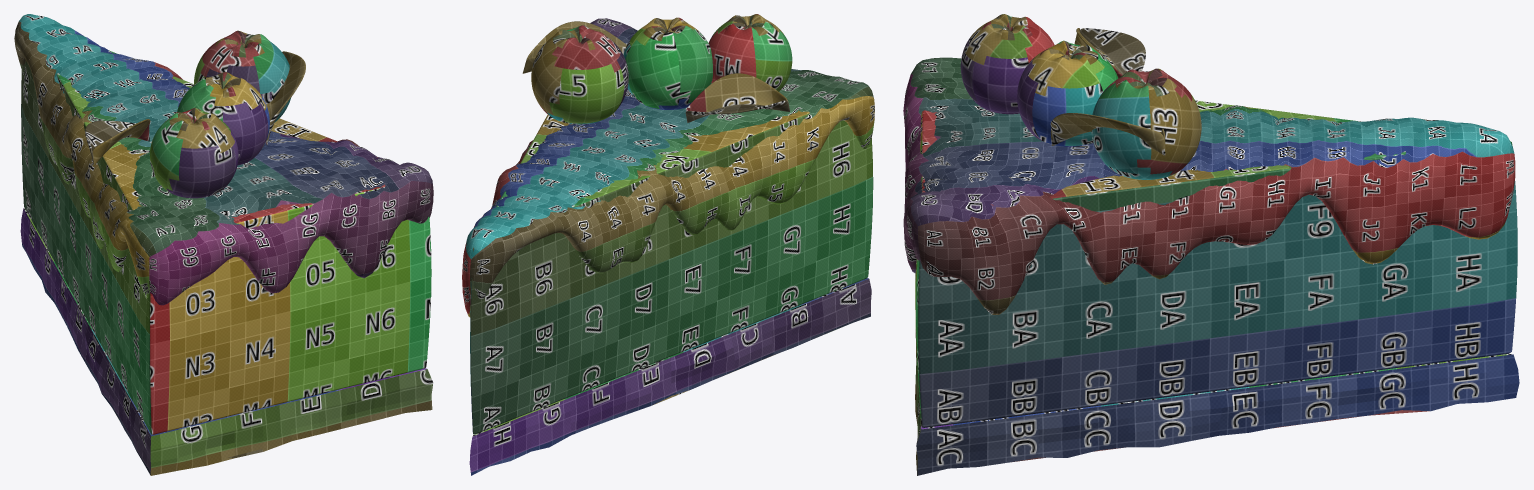
File: uv_cake.glb
3 views of the same model, side by side, from view 1: azimuth 30°, elevation 25°; view 2: azimuth 150°, elevation 25°; view 3: azimuth 270°, elevation 25° (orthographic). The views are drawn at different scales.
Visible parts, largest first — view 1: Cheese, Icing, Crust, Blueberry.001, Blueberry, Blueberry.002, Leaf.001, Leaf; view 2: Cheese, Icing, Crust, Blueberry.002, Blueberry, Blueberry.001, Leaf.001, Leaf; view 3: Cheese, Icing, Crust, Blueberry.002, Blueberry, Blueberry.001, Leaf.001, Leaf.
Boxes of the visible parts, box(x1,y1,x2,y2) form: Cheese: box(21, 50, 431, 434); Icing: box(14, 14, 433, 305); Crust: box(20, 208, 433, 475); Blueberry.001: box(149, 107, 238, 198); Blueberry: box(177, 72, 269, 165); Blueberry.002: box(194, 30, 291, 122); Leaf.001: box(85, 119, 150, 165); Leaf: box(265, 51, 305, 145); Cheese: box(470, 110, 873, 434); Icing: box(462, 18, 874, 317); Crust: box(469, 278, 871, 475); Blueberry.002: box(531, 25, 628, 124); Blueberry: box(623, 17, 712, 109); Blueberry.001: box(708, 14, 792, 91); Leaf.001: box(685, 73, 789, 122); Leaf: box(522, 21, 626, 73); Cheese: box(915, 100, 1517, 427); Icing: box(903, 57, 1515, 314); Crust: box(915, 330, 1519, 475); Blueberry.002: box(1091, 68, 1201, 179); Blueberry: box(1017, 40, 1118, 146); Blueberry.001: box(960, 14, 1054, 114); Leaf.001: box(1074, 28, 1145, 78); Leaf: box(1050, 113, 1165, 155).
Size of the model in its own units: 0.0637 by 0.0658 by 0.1041.
Materials: 1 (1 with a texture image).
